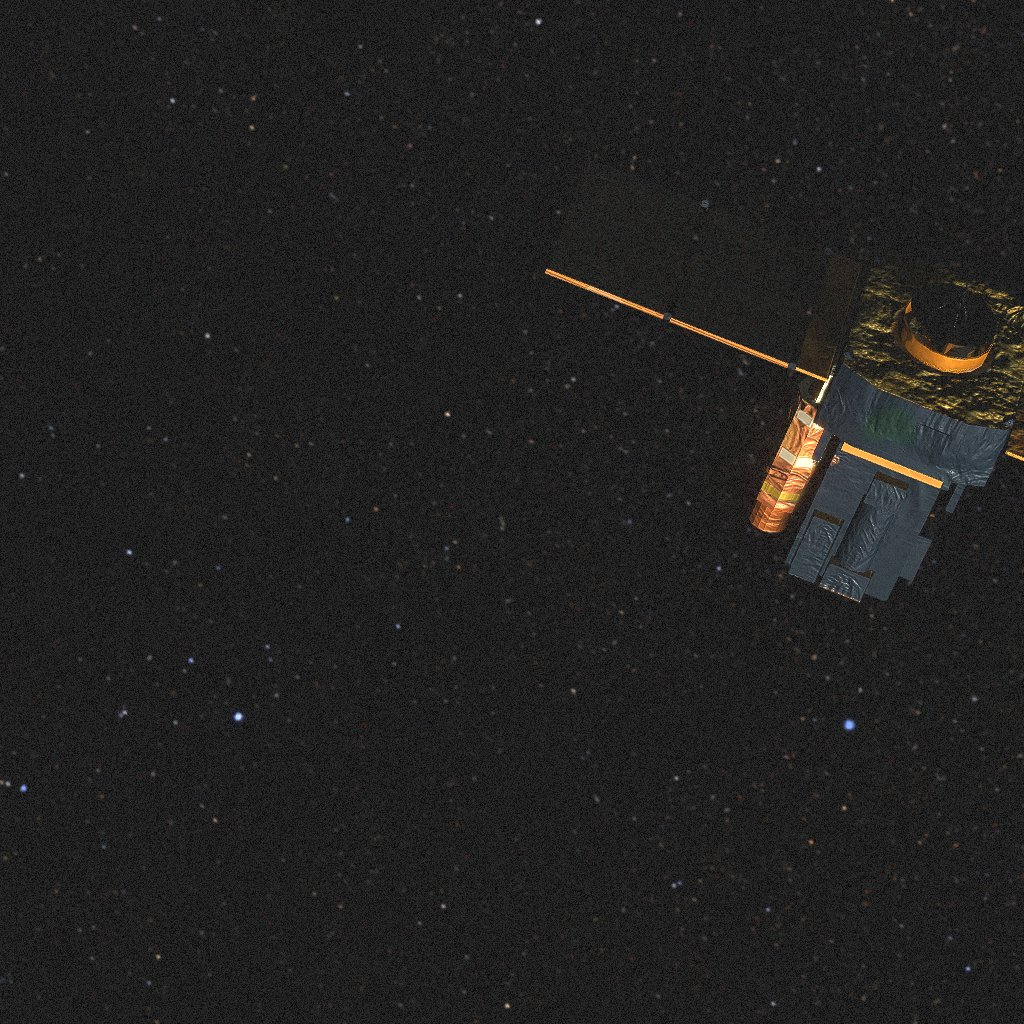soho: (545, 158, 1024, 602)
